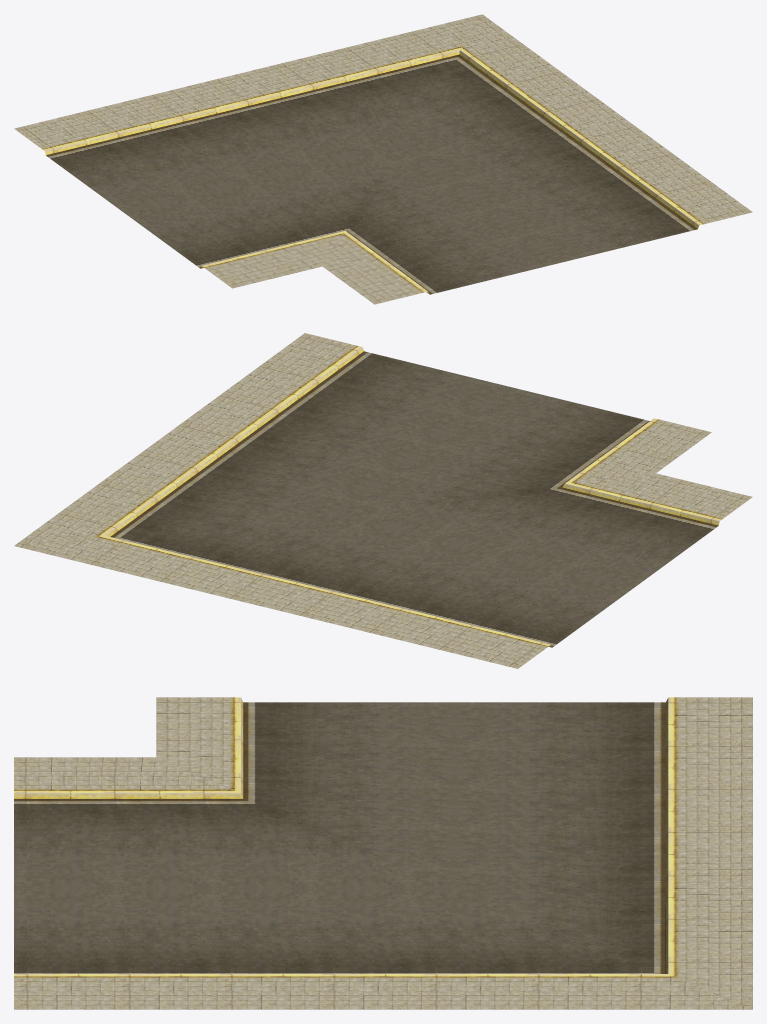
The model's file is Road3_Corner_B.fbx.
The picture shows the model from 3 angles, top to bottom: view 1: azimuth 30°, elevation 25°; view 2: azimuth 150°, elevation 25°; view 3: azimuth 270°, elevation 25°; orthographic projection. The views are drawn at different scales.
Parts seen in each view (by area): view 1: Road_Corner_B; view 2: Road_Corner_B; view 3: Road_Corner_B.
Boxes of the visible parts, x1,y1,x2,y2 form: Road_Corner_B: (14, 14, 752, 304); Road_Corner_B: (14, 333, 752, 668); Road_Corner_B: (14, 697, 752, 1009).
Size of the model in its own units: 2793 by 20.38 by 2793.
